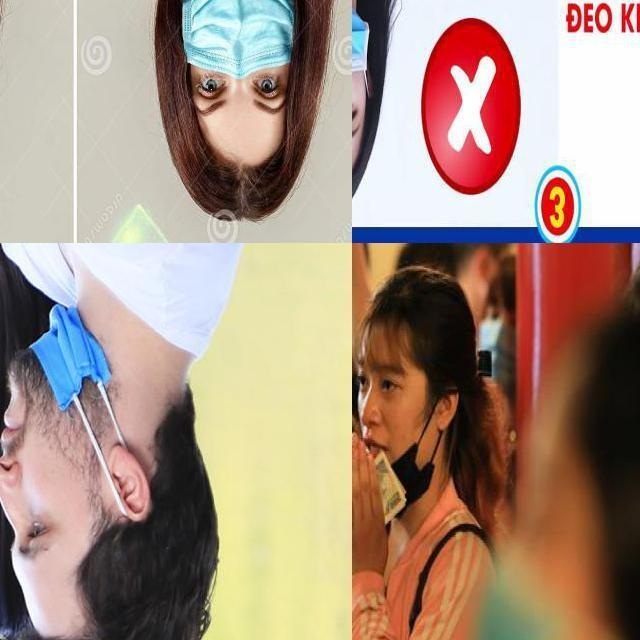hairnet: (0, 304, 128, 493), (359, 396, 444, 522)
